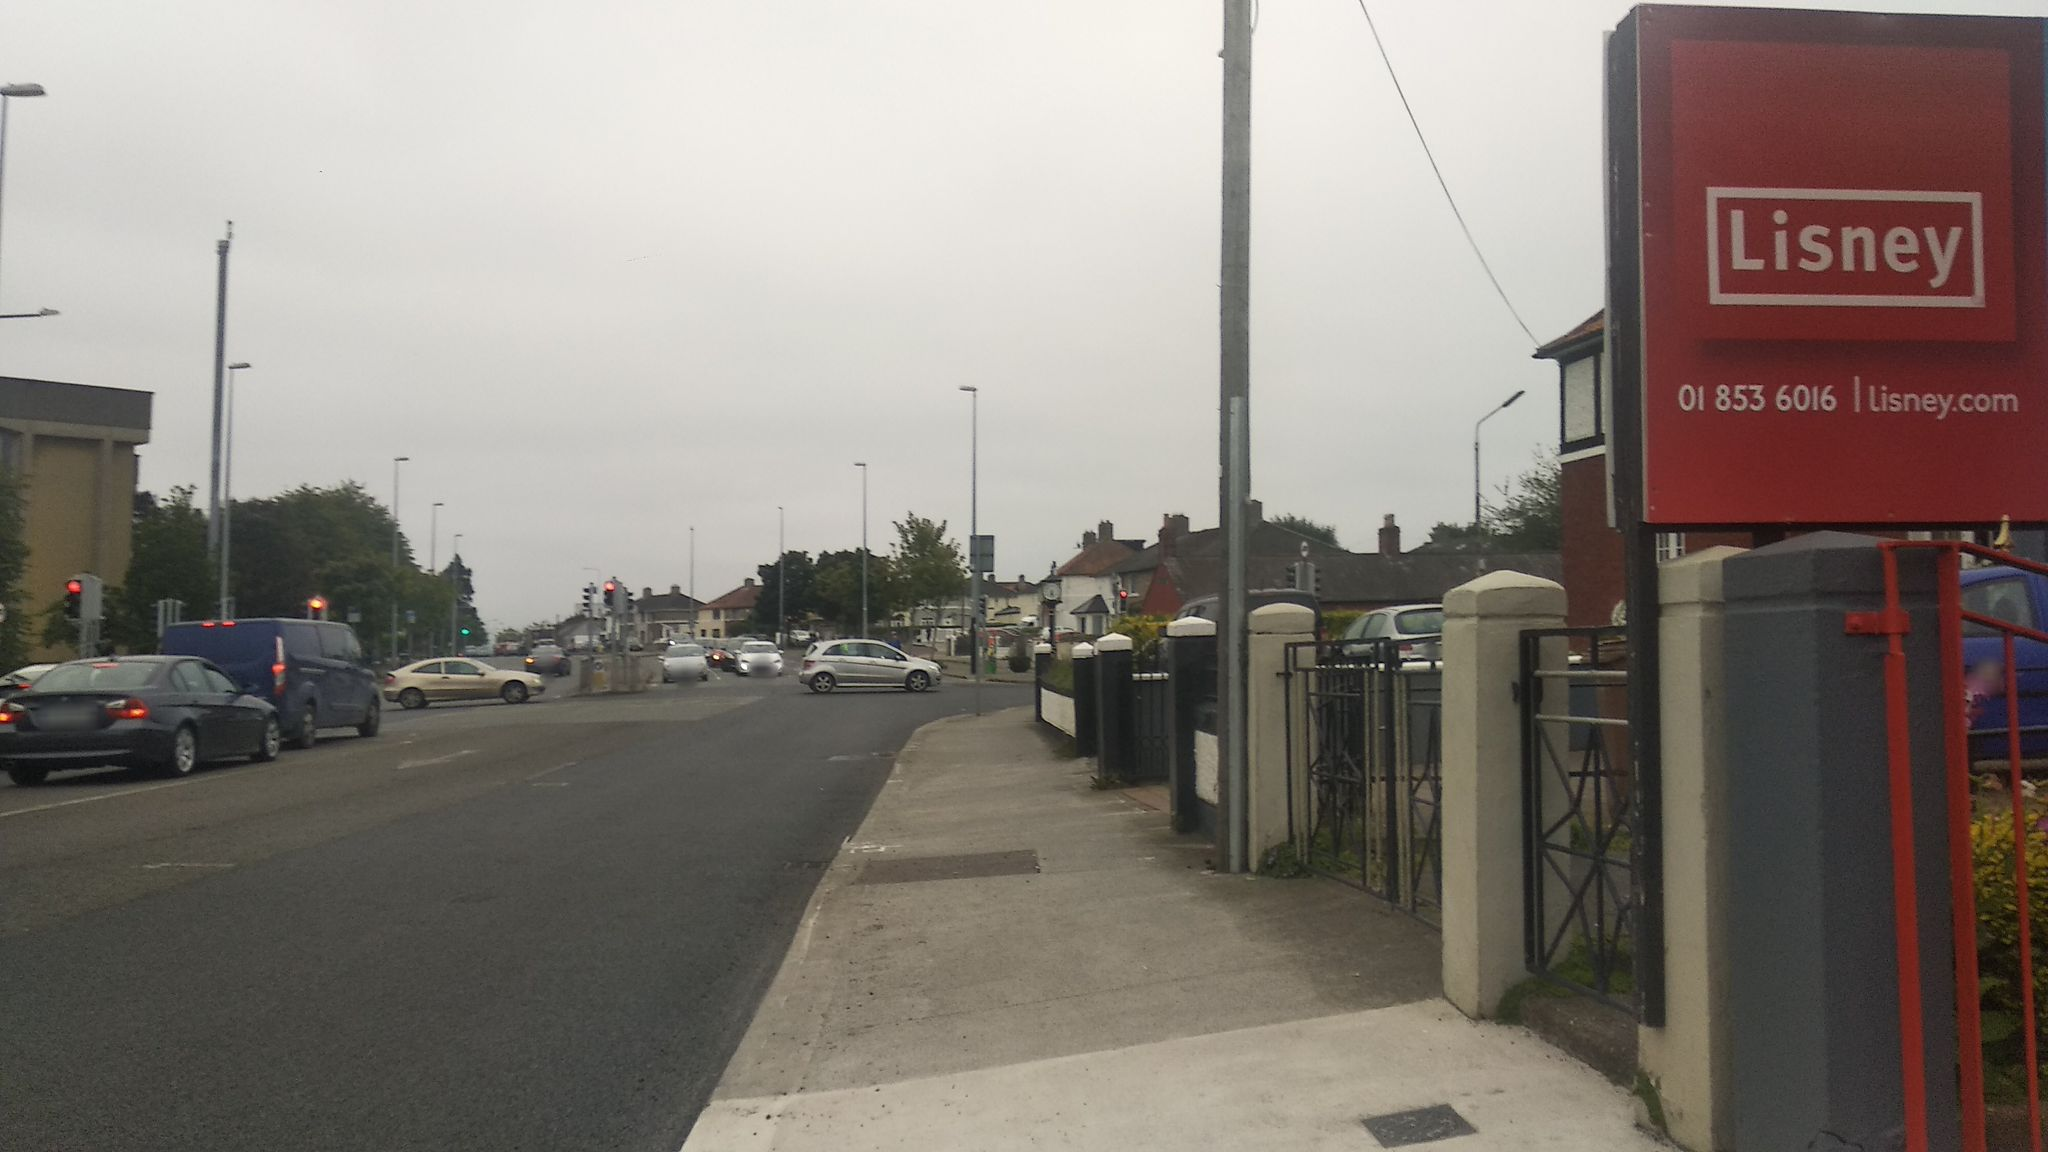property sign: (1594, 8, 2048, 532)
